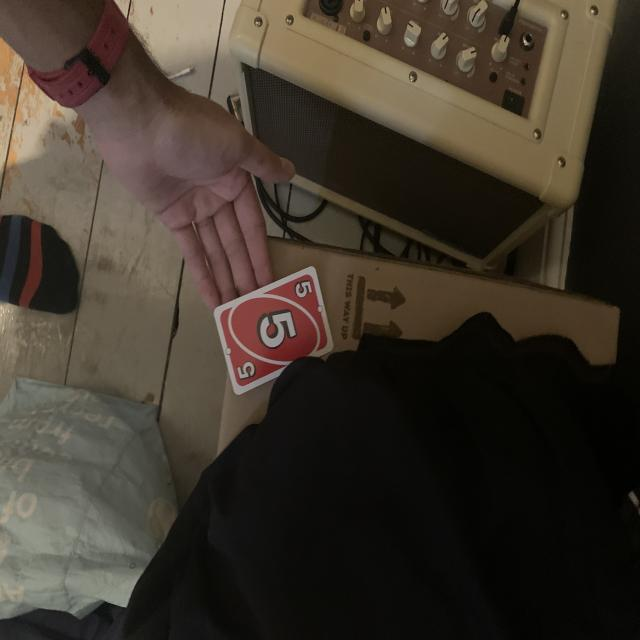lred-5: (292, 278, 315, 302)
